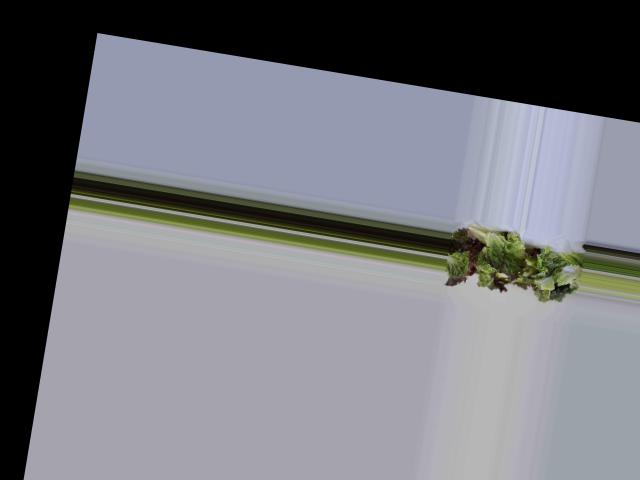lettuce: (447, 231, 577, 300)
